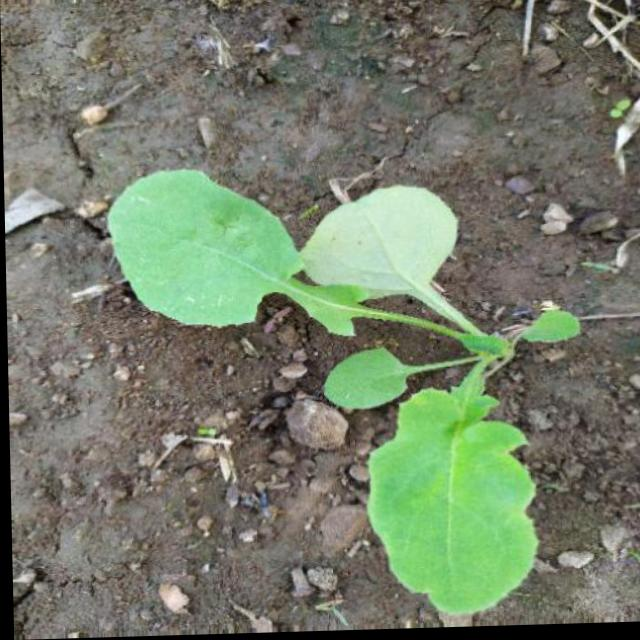weed: (98, 143, 586, 629)
